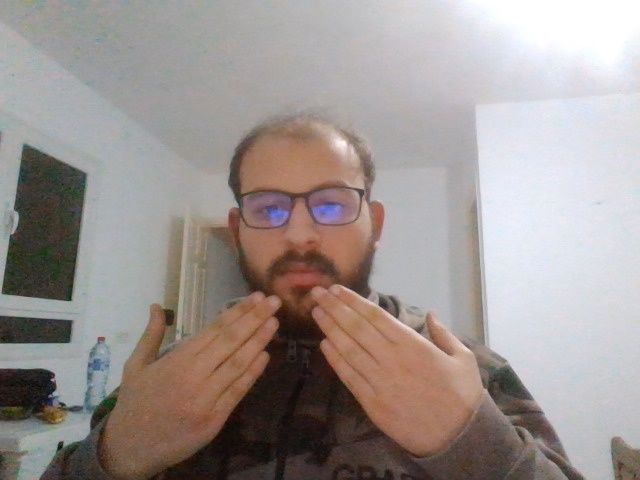Thank You: (124, 286, 470, 456)
